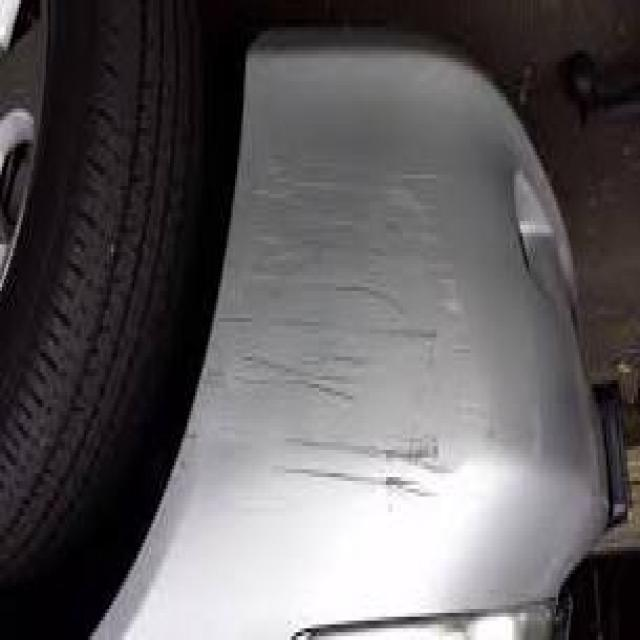scratch: (212, 152, 464, 504)
